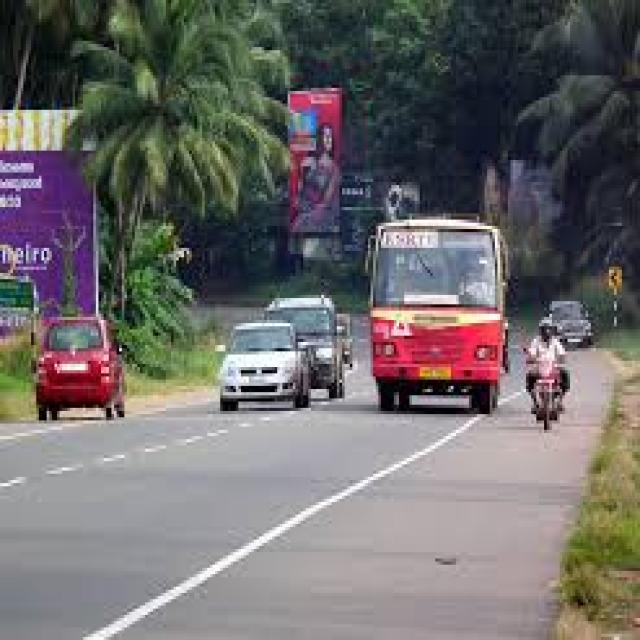bus ahead at: (358, 216, 512, 412)
car ahead at: (32, 314, 129, 424), (209, 316, 312, 416)
motorcycle ahead at: (520, 317, 573, 433)
